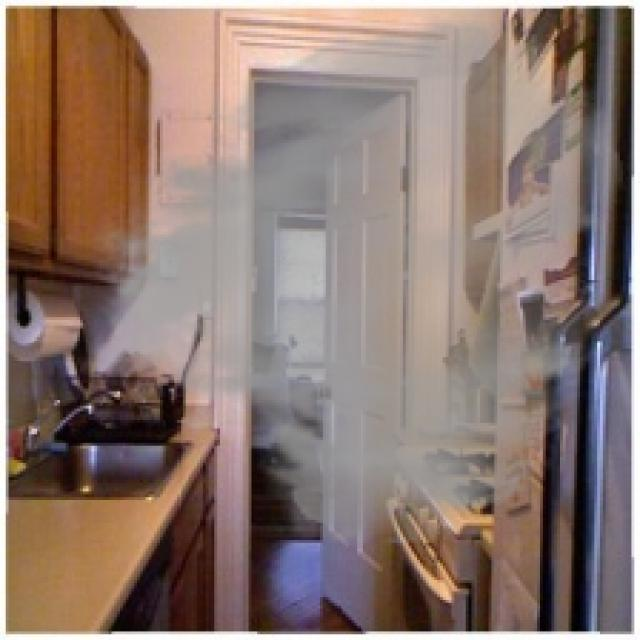Smoke: (77, 6, 629, 552)
